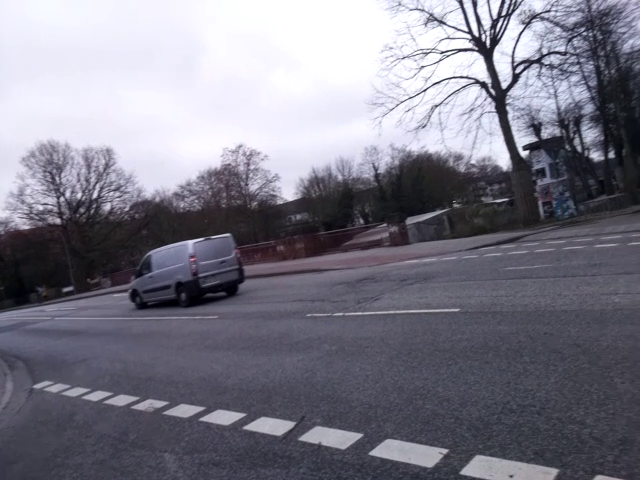car: (124, 234, 252, 311)
